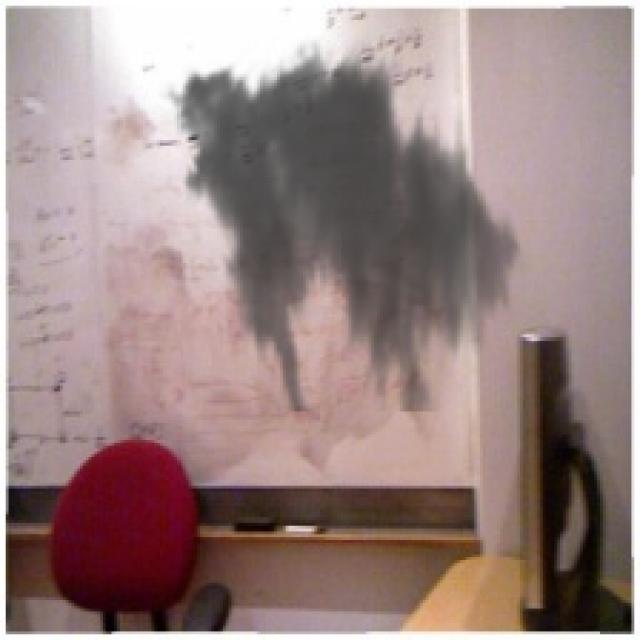smoke: (157, 34, 532, 412)
